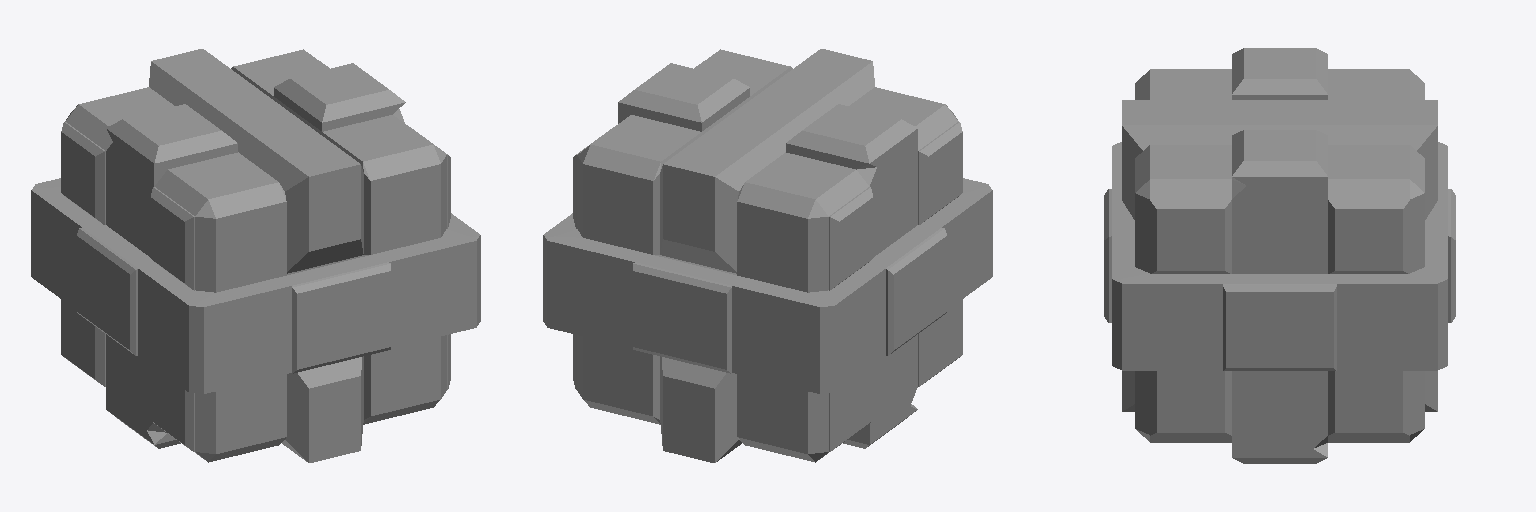
Rendered from Insert[Name]HereCube 1.obj.
The picture shows the model from 3 angles: view 1: azimuth 30°, elevation 25°; view 2: azimuth 150°, elevation 25°; view 3: azimuth 270°, elevation 25°; orthographic projection.
Visible parts, largest first — view 1: Cube_Cube.001; view 2: Cube_Cube.001; view 3: Cube_Cube.001.
Part boxes in pixels (left/top/right/bottom): Cube_Cube.001: left=31, top=49, right=480, bottom=462; Cube_Cube.001: left=543, top=49, right=992, bottom=462; Cube_Cube.001: left=1104, top=48, right=1455, bottom=463.
Size of the model in its own units: 3.95 by 3.75 by 3.95.